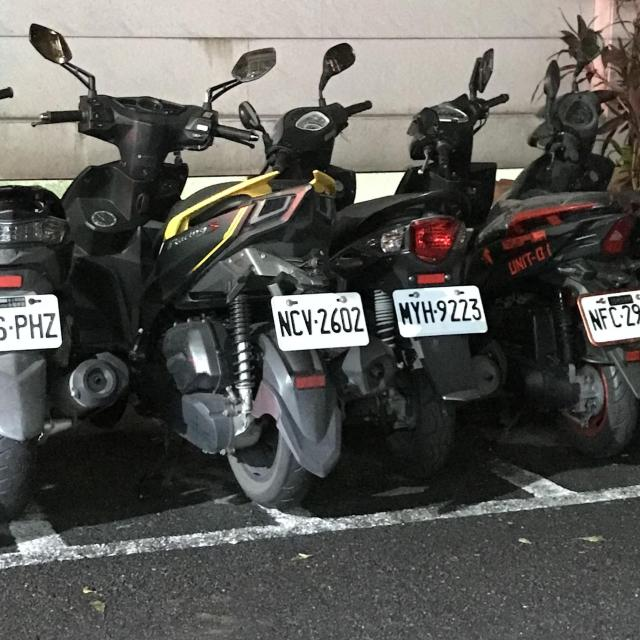W: (267, 287, 371, 353), (388, 280, 490, 340), (575, 281, 640, 347), (0, 290, 65, 356)
